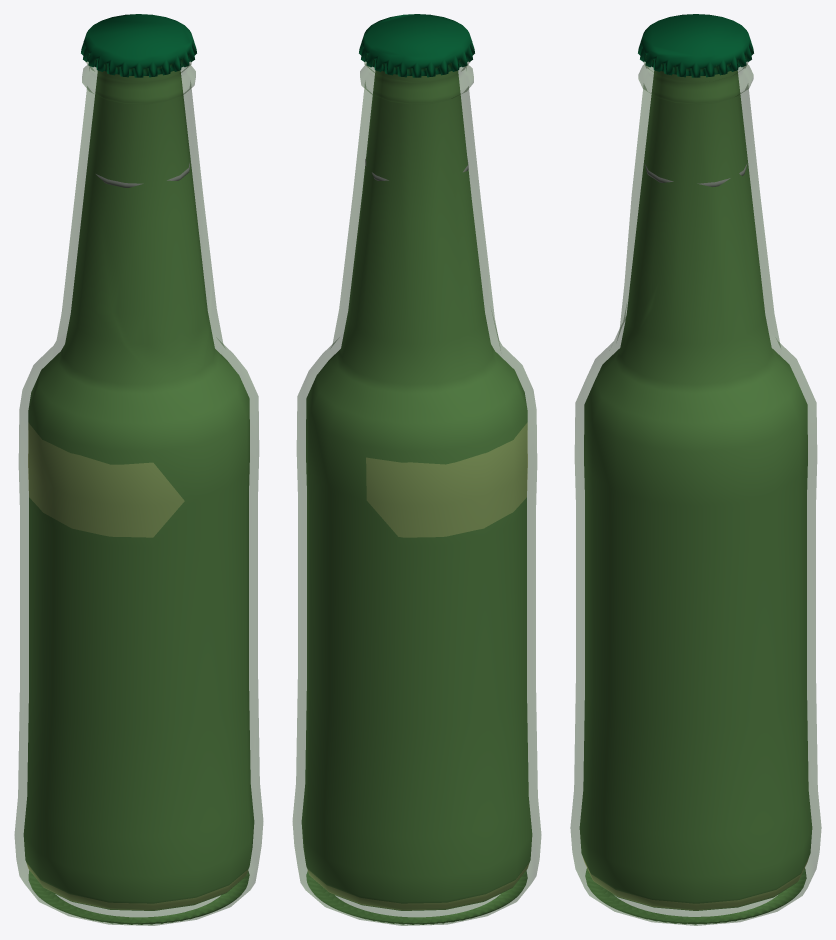
The model's file is bottle-beer.glb.
The picture shows the model from 3 angles, left to right: view 1: azimuth 30°, elevation 25°; view 2: azimuth 150°, elevation 25°; view 3: azimuth 270°, elevation 25°; orthographic projection.
Visible parts, largest first — view 1: GARRAFA; view 2: GARRAFA; view 3: GARRAFA.
Part boxes in pixels (box(x1,y1,x2,y2)): GARRAFA: box(14, 14, 263, 925); GARRAFA: box(292, 14, 541, 925); GARRAFA: box(570, 14, 821, 925).
Bounding box in the file's own units: 12.74 × 47.38 × 12.74.
